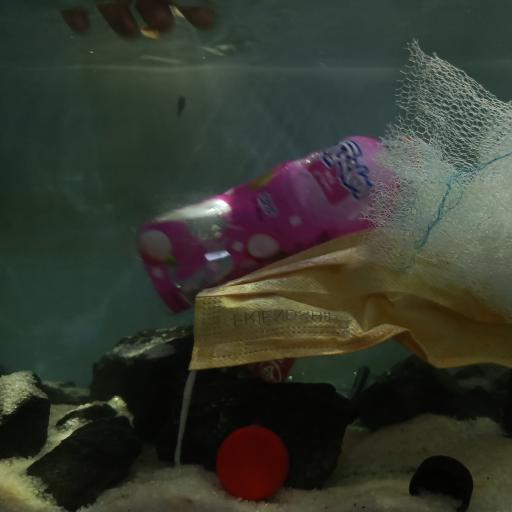bottle_cap: (216, 428, 290, 498), (407, 452, 474, 512)
mask: (182, 231, 512, 400)
net: (359, 37, 512, 331)
plastic_bottle: (130, 131, 438, 312), (167, 302, 370, 390)
